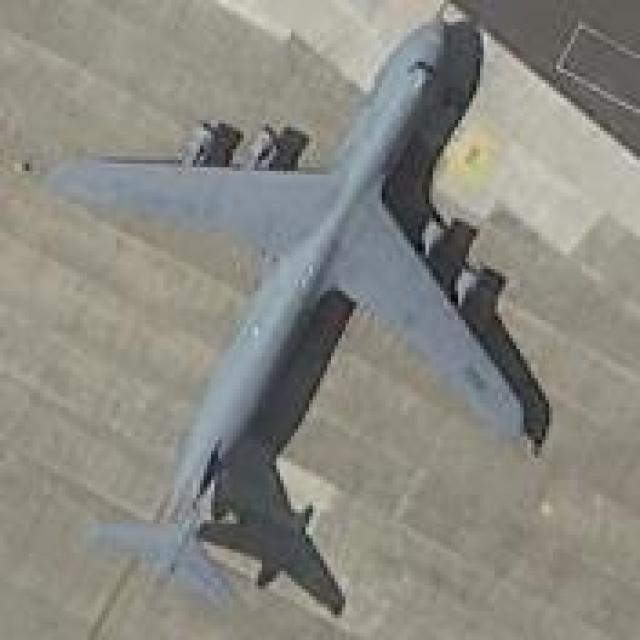C-5_TopDown: (41, 18, 564, 614)
